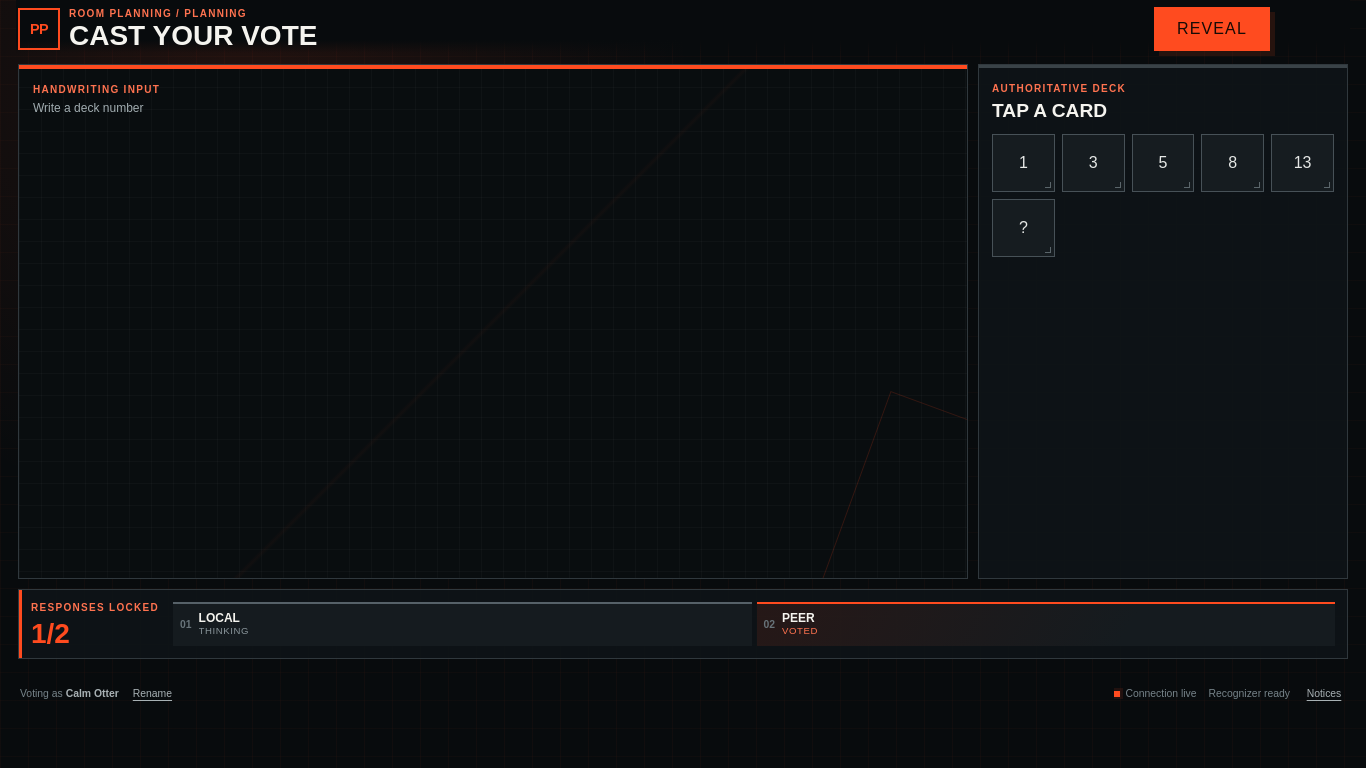
Test case: VotingApp voting controls › retains a pending retract through an older vote acknowledgement
Click the button named "Vote 5". click: [1163, 163]
box: [1132,134,1194,192]
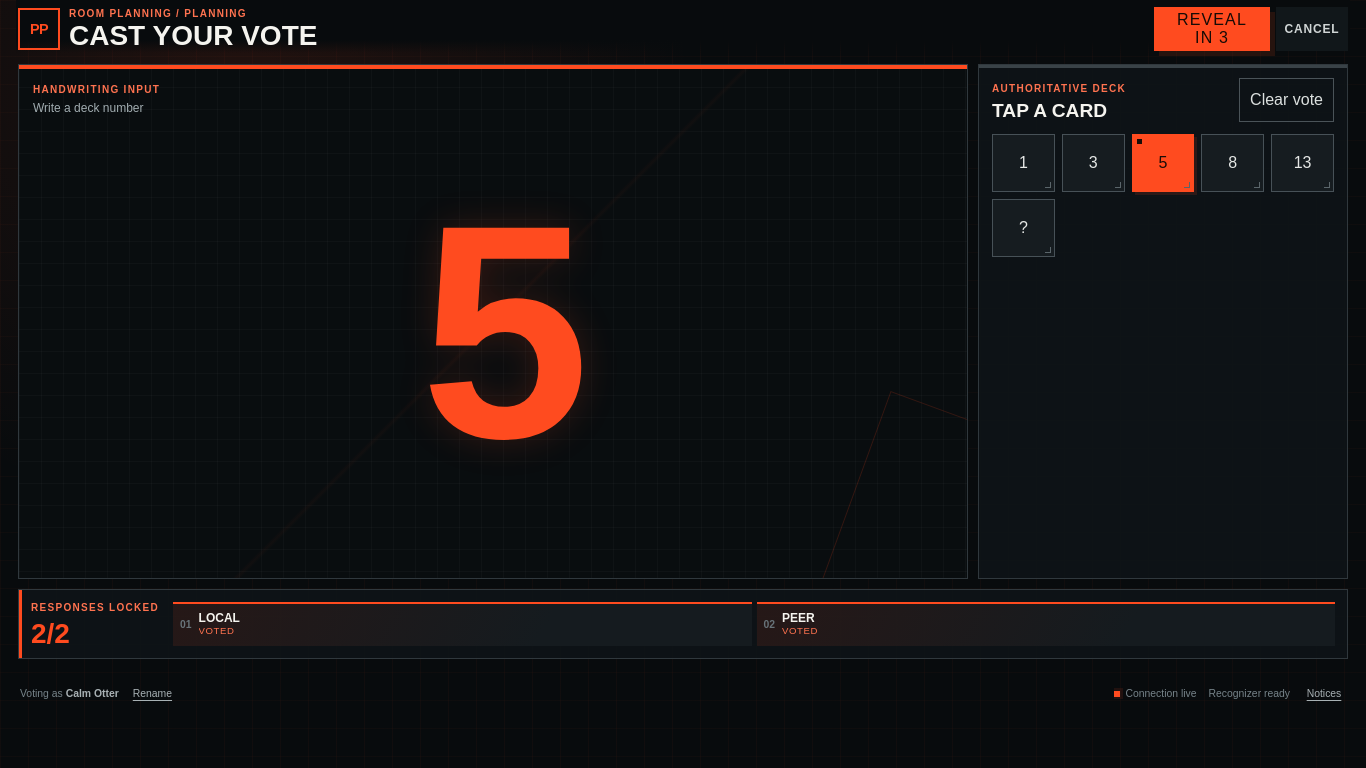
Click the button "Clear vote". click: [1287, 100]
box: [1239,78,1334,122]
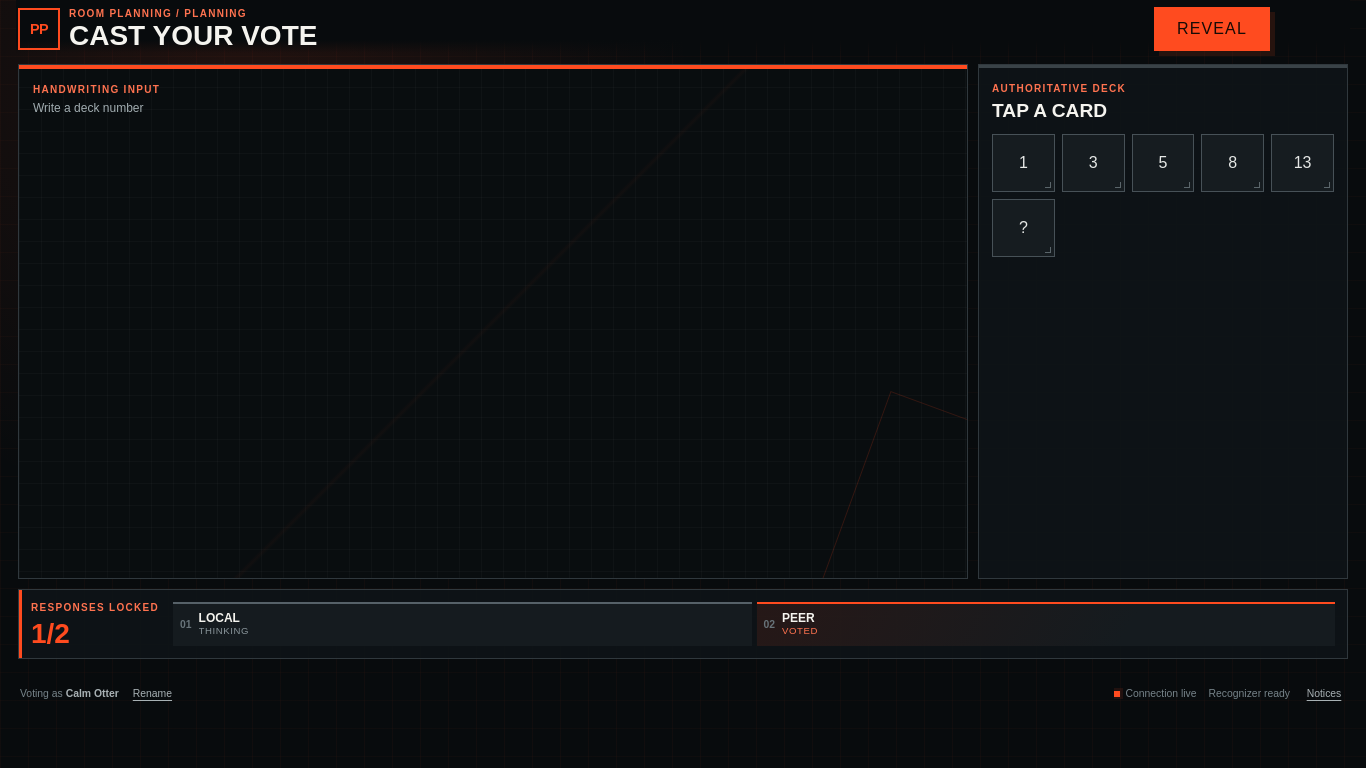
Expected: the text "1/2" is shown, [31,623,70,645]
